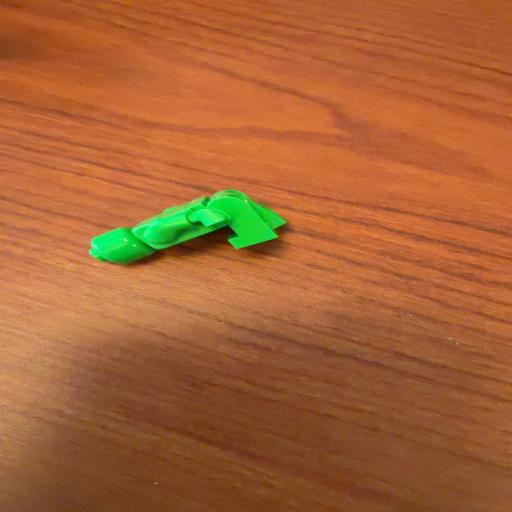UnoQ-minifig-detector: (89, 190, 286, 264)
